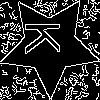K: (24, 20, 69, 54)
